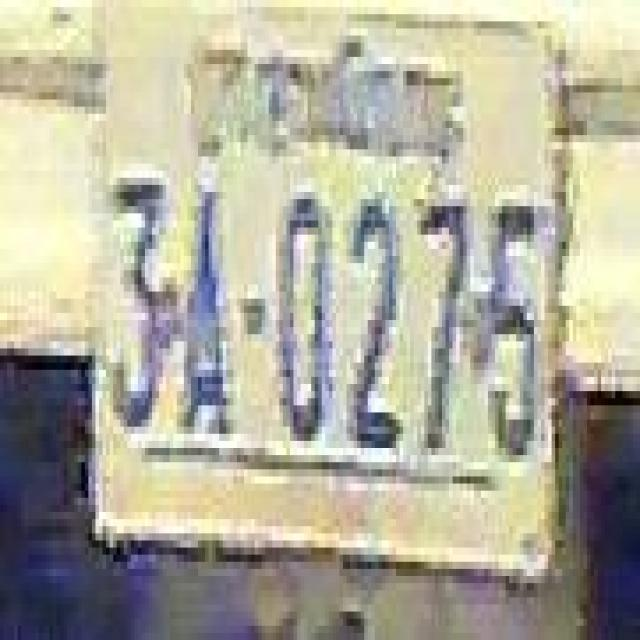Preah_Sihanouk: (181, 29, 465, 185)
